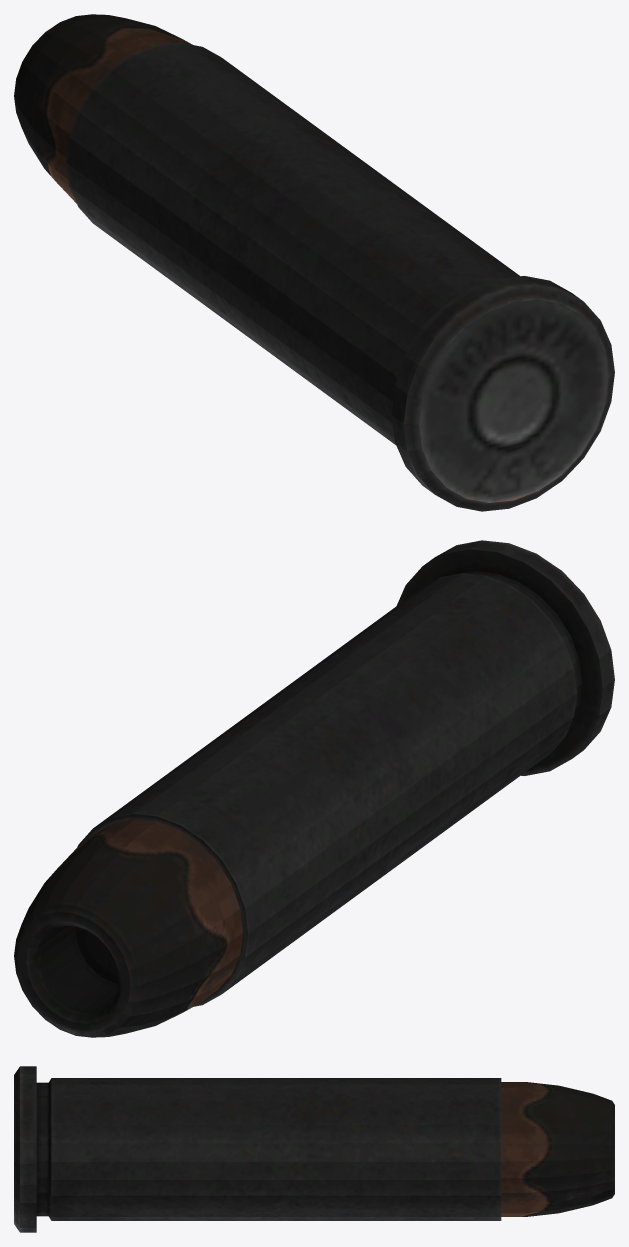
3 renders of one model, top to bottom at view 1: azimuth 30°, elevation 25°; view 2: azimuth 150°, elevation 25°; view 3: azimuth 270°, elevation 25°, orthographic. The views are drawn at different scales.
Visible parts, largest first — view 1: TW_62330c40bdd19b369e1e53d1_PZ_Import; view 2: TW_62330c40bdd19b369e1e53d1_PZ_Import; view 3: TW_62330c40bdd19b369e1e53d1_PZ_Import.
Boxes of the visible parts, x1,y1,x2,y2 form: TW_62330c40bdd19b369e1e53d1_PZ_Import: (14, 14, 614, 511); TW_62330c40bdd19b369e1e53d1_PZ_Import: (14, 540, 614, 1037); TW_62330c40bdd19b369e1e53d1_PZ_Import: (14, 1066, 614, 1232).
Size of the model in its own units: 0.00648 by 0.0234 by 0.00648.
1 material, 1 textured.
